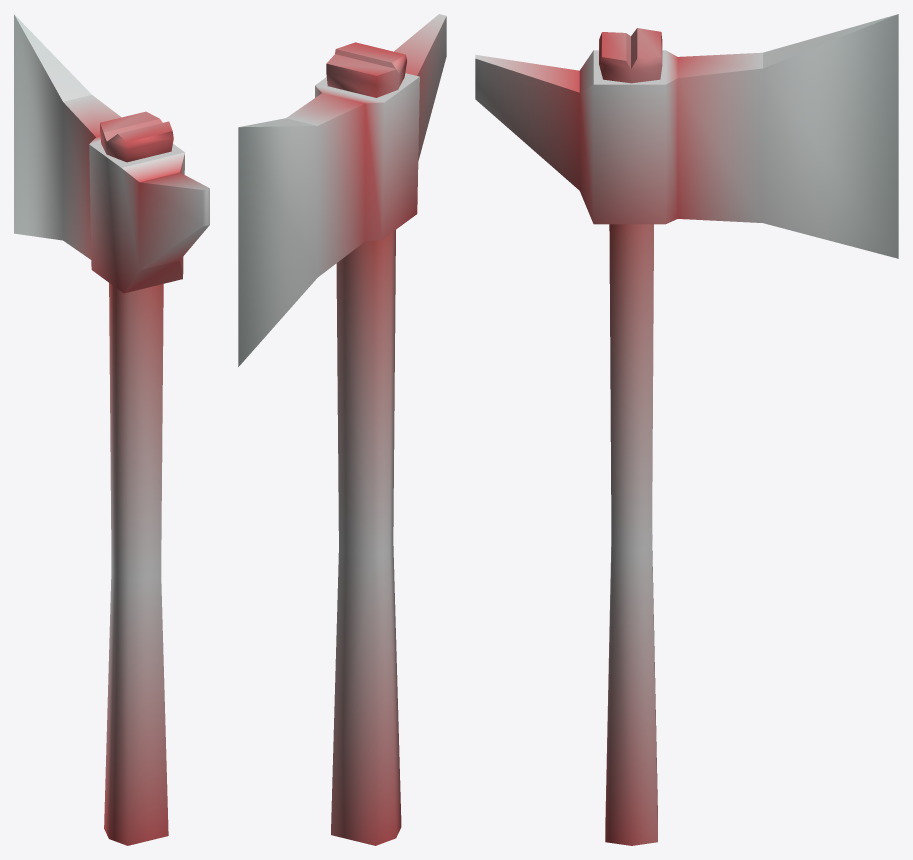
File: Axe.fbx
3 views of the same model, side by side, from view 1: azimuth 30°, elevation 25°; view 2: azimuth 150°, elevation 25°; view 3: azimuth 270°, elevation 25° (orthographic). The views are drawn at different scales.
Visible parts, largest first — view 1: Axe; view 2: Axe; view 3: Axe.
Boxes of the visible parts, <box> form: Axe: <box>14,14,209,845</box>; Axe: <box>238,14,446,845</box>; Axe: <box>475,14,898,845</box>.
Size of the model in its own units: 23.57 by 259 by 122.
